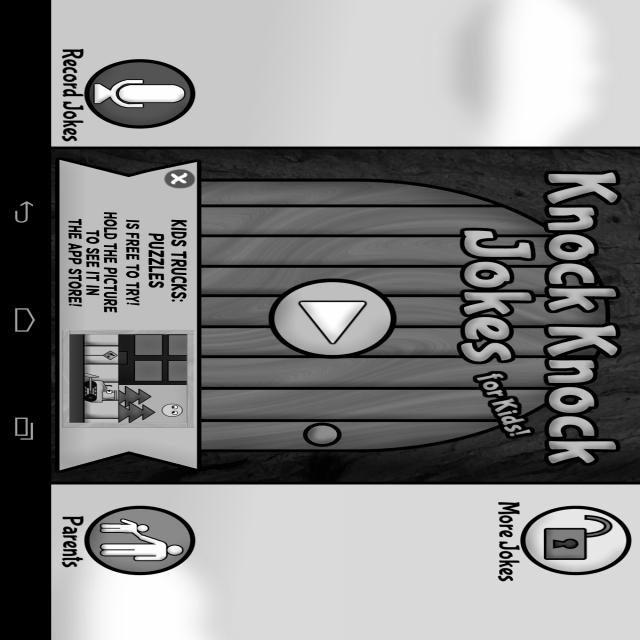ImageButton: (158, 166, 195, 192)
ImageView: (215, 172, 624, 466), (66, 332, 188, 423), (84, 502, 201, 578), (92, 59, 204, 128), (526, 504, 626, 575)
TextView: (60, 209, 191, 317), (52, 43, 86, 142), (487, 499, 517, 581)
